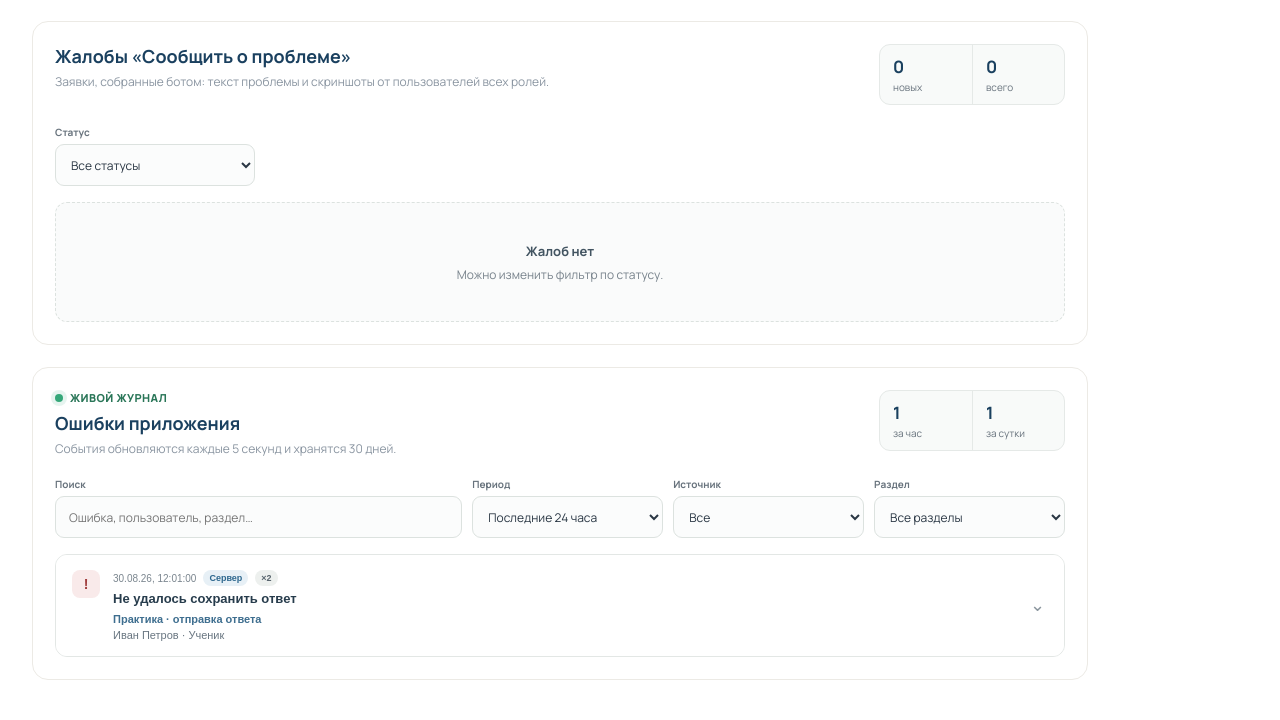
Test: показывает подробный живой журнал ошибок
(page scrolled)
Expected: the text "×2" is shown, [255, 570, 278, 586]
Click the button "Не удалось сохранить ответ" at (155, 578), box [56, 555, 1064, 656]
(page scrolled)
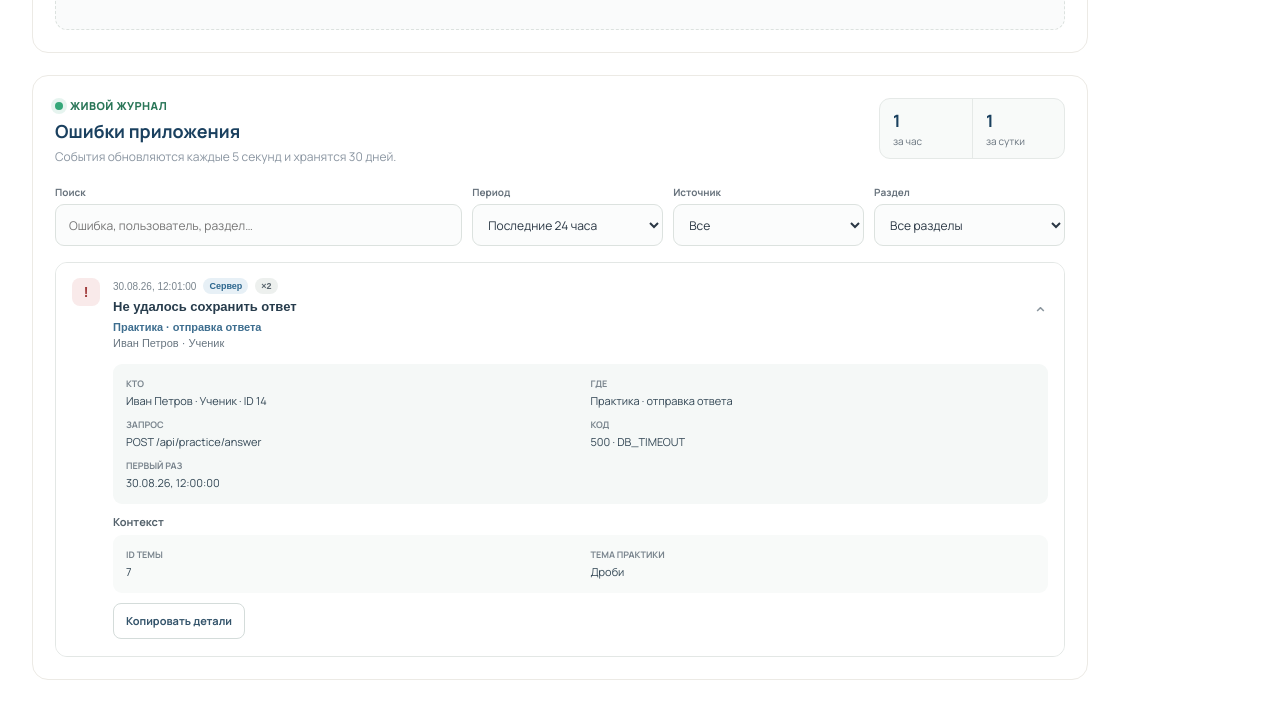
Expected: the text "Иван Петров · Ученик · ID 14" is shown, [126, 393, 267, 408]
Expected: the text "Дроби" is shown, [590, 564, 624, 579]
